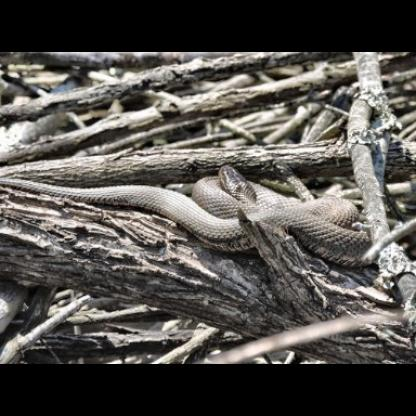Snake: (10, 153, 409, 270)
